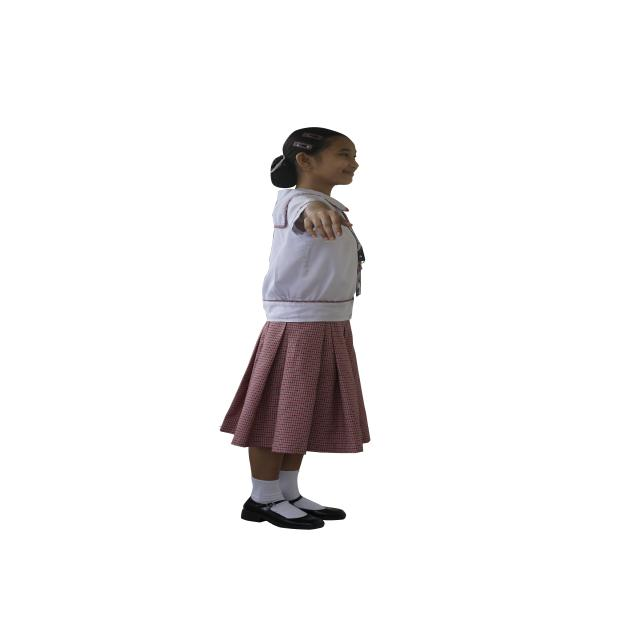pologirl: (262, 189, 363, 322)
shoes: (241, 497, 346, 530)
skirt: (220, 321, 370, 454)
